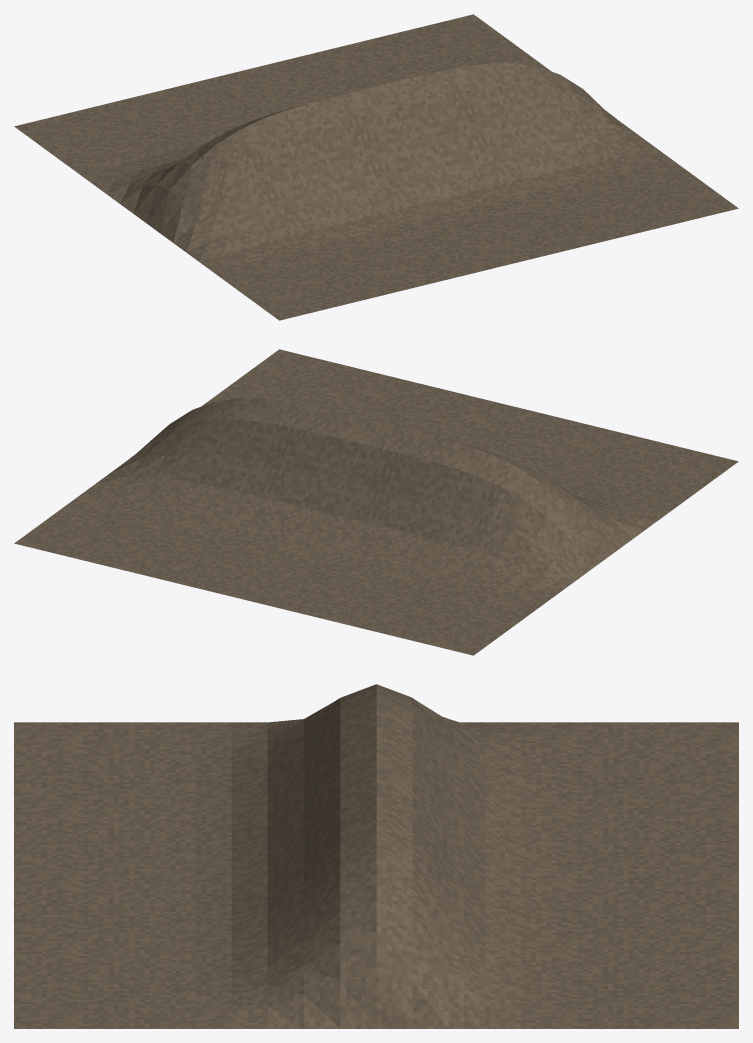
The picture shows the model from 3 angles, top to bottom: view 1: azimuth 30°, elevation 25°; view 2: azimuth 150°, elevation 25°; view 3: azimuth 270°, elevation 25°; orthographic projection. The views are drawn at different scales.
Parts seen in each view (by area): view 1: ST2-T02_Mesh; view 2: ST2-T02_Mesh; view 3: ST2-T02_Mesh.
Boxes of the visible parts, box(x1,y1,x2,y2) form: ST2-T02_Mesh: box(14, 14, 738, 320); ST2-T02_Mesh: box(14, 349, 738, 655); ST2-T02_Mesh: box(14, 684, 738, 1028).
Size of the model in its own units: 8 by 1.35 by 8.
Materials: 1 (1 with a texture image).
